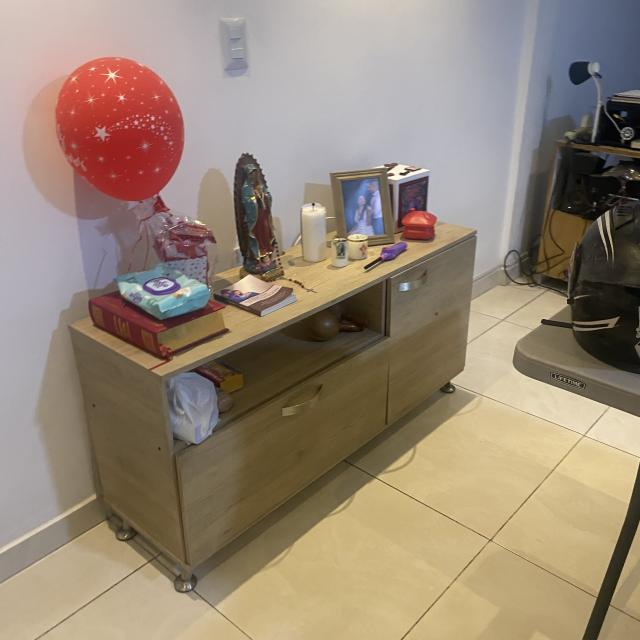obstacle: (79, 187, 483, 600)
